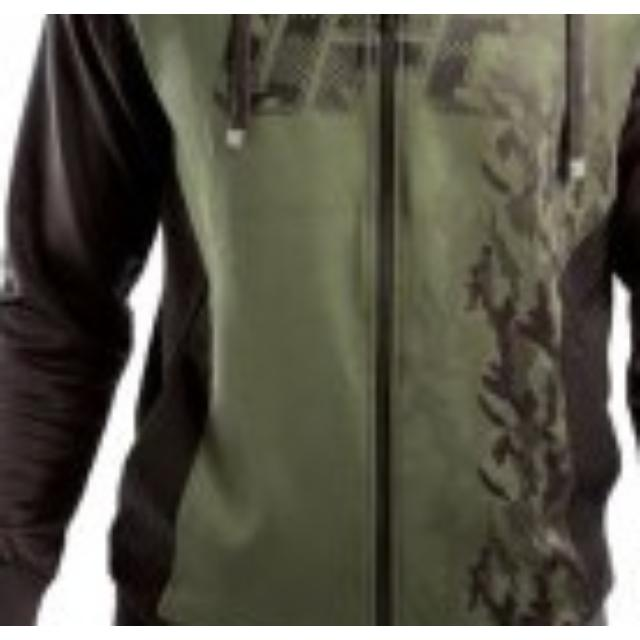polyester: (70, 14, 634, 626)
